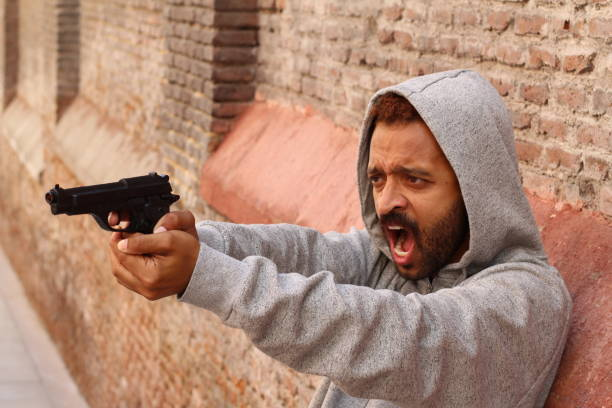gun: (44, 171, 182, 236)
